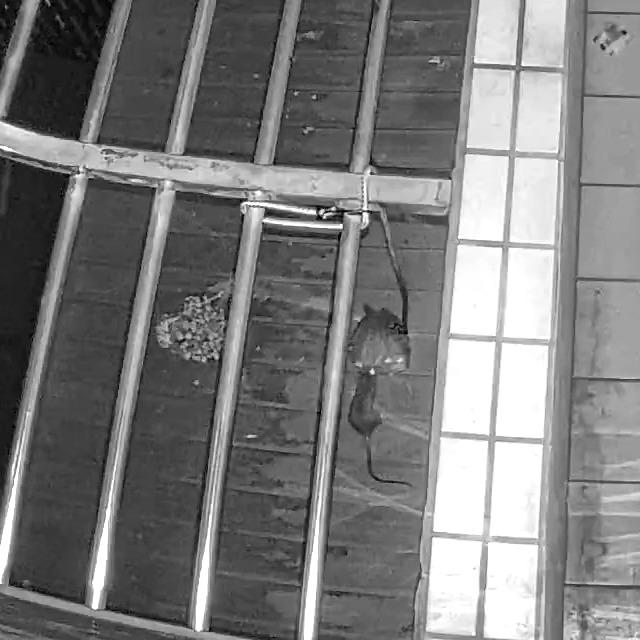rat: (348, 364, 414, 489)
